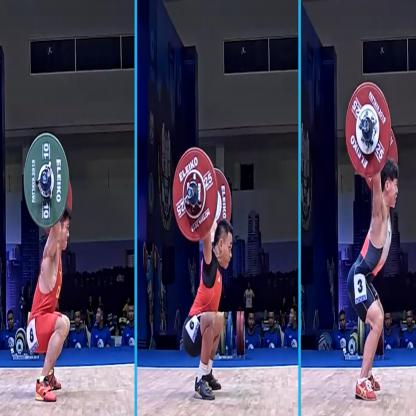Barbell: (342, 70, 396, 190), (168, 132, 222, 248), (20, 126, 71, 235)
